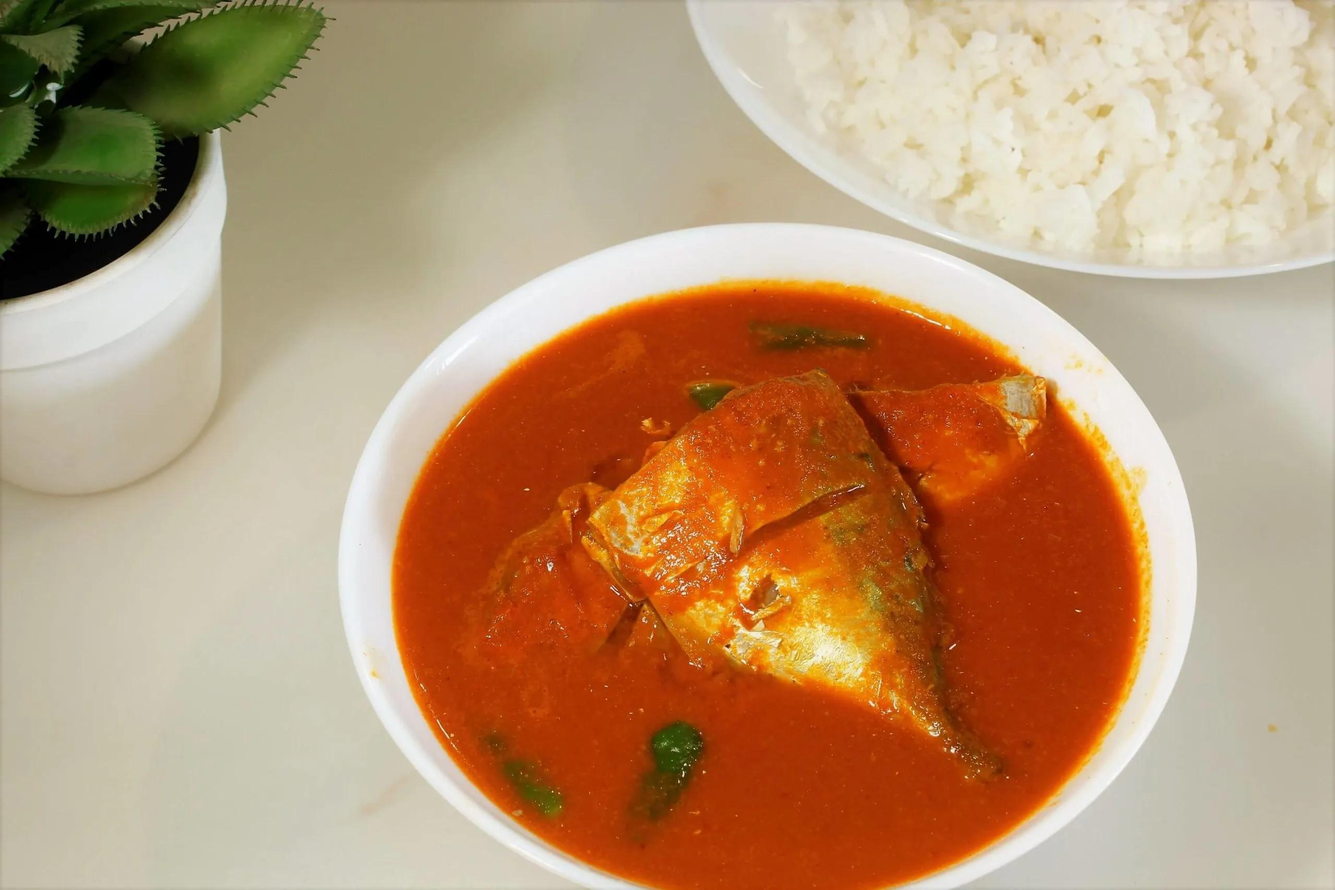FishCurry: (394, 285, 1138, 890)
